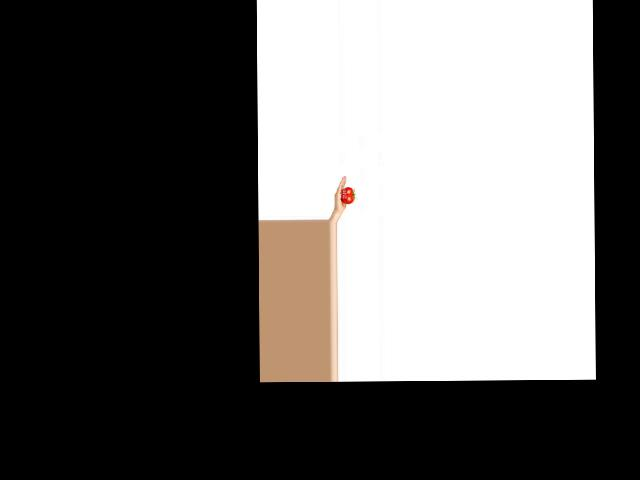tomato: (340, 186, 354, 203)
